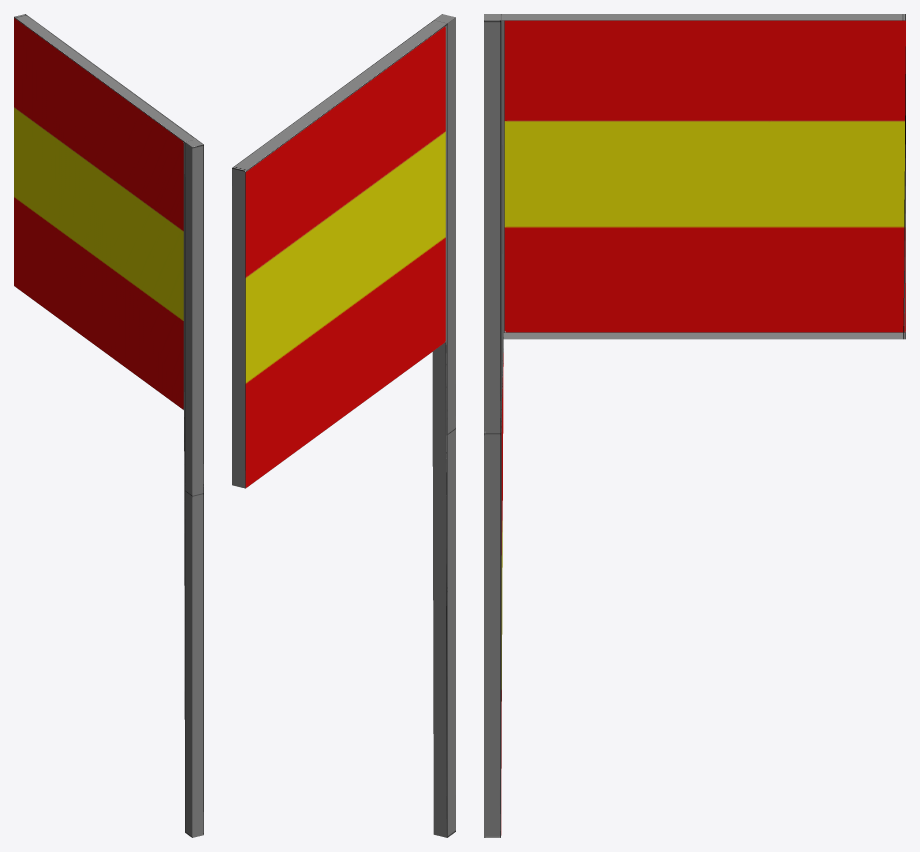
File: spainflag.obj
3 renders of one model, left to right at view 1: azimuth 30°, elevation 25°; view 2: azimuth 150°, elevation 25°; view 3: azimuth 270°, elevation 25°, orthographic. The views are drawn at different scales.
Parts seen in each view (by area): view 1: Cube_Cube.001; view 2: Cube_Cube.001; view 3: Cube_Cube.001.
Boxes of the visible parts, x1,y1,x2,y2 form: Cube_Cube.001: (14,14,203,837); Cube_Cube.001: (232,14,455,837); Cube_Cube.001: (484,14,905,837).
Bounding box in the file's own units: 0.05 × 2.85 × 1.33.
